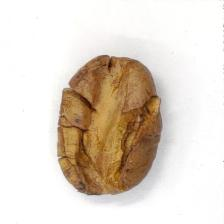NG: (58, 55, 164, 196)
